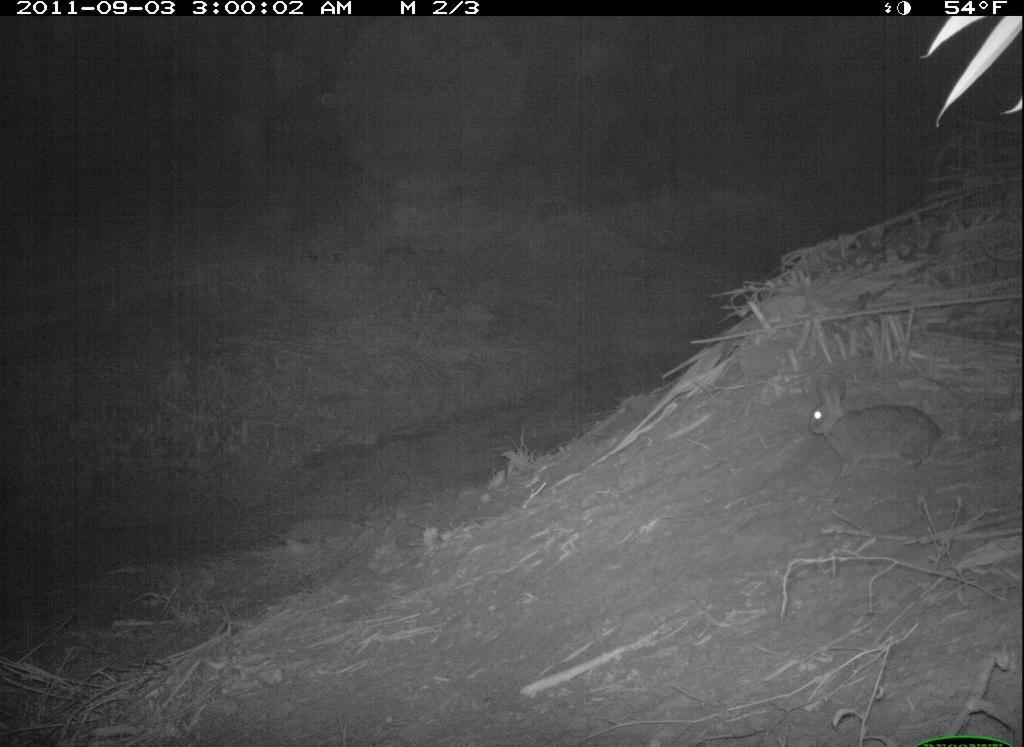rabbit: (790, 367, 957, 481)
